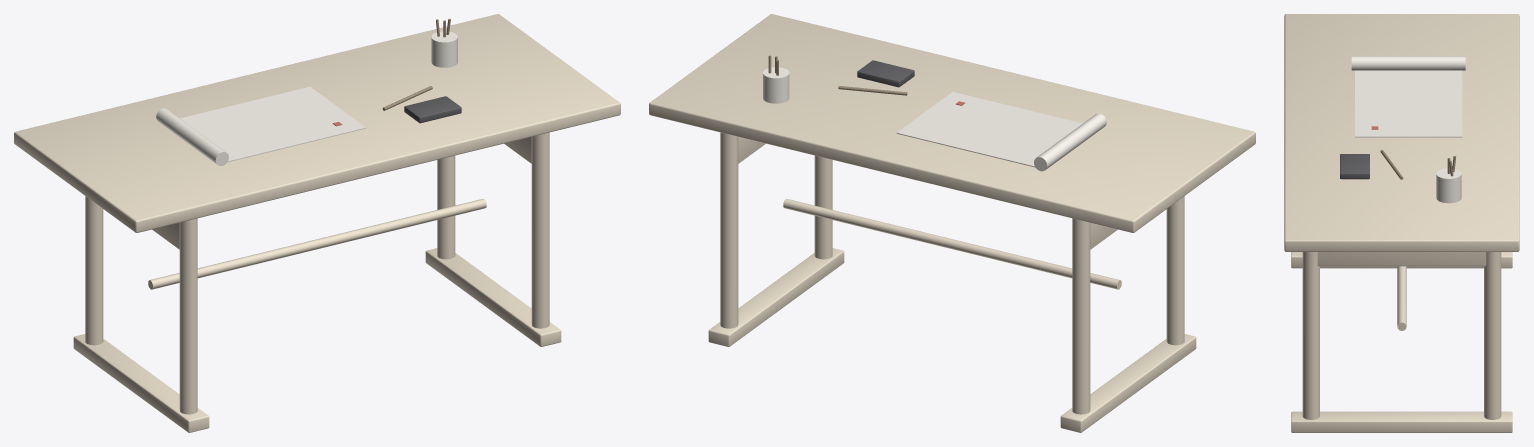
File: sg_desk.glb
3 renders of one model, left to right at view 1: azimuth 30°, elevation 25°; view 2: azimuth 150°, elevation 25°; view 3: azimuth 270°, elevation 25°, orthographic. The views are drawn at different scales.
Parts seen in each view (by area): view 1: top, sheet, trestle0_post0, trestle1_post0, trestle1_rail, trestle0_rail, stretcher, trestle0_post1, trestle1_post1, roll, inkstone, brushpot; view 2: top, sheet, trestle0_post1, trestle1_post1, trestle1_rail, trestle0_rail, stretcher, trestle0_post0, trestle1_post0, roll, inkstone, brushpot; view 3: top, sheet, trestle1_rail, trestle1_post0, trestle1_post1, trestle1_board, roll, trestle0_rail, brushpot, inkstone, stretcher.
Part boxes in pixels (box(x1,y1,x2,y2)): top: box(14, 14, 620, 232); sheet: box(180, 86, 366, 162); trestle0_post0: box(179, 218, 197, 414); trestle1_post0: box(531, 132, 549, 328); trestle1_rail: box(425, 248, 561, 346); trestle0_rail: box(73, 334, 209, 432); stretcher: box(148, 199, 486, 289); trestle0_post1: box(85, 196, 103, 345); trestle1_post1: box(437, 155, 455, 259); roll: box(156, 108, 228, 165); inkstone: box(404, 96, 461, 123); brushpot: box(431, 31, 457, 67); top: box(649, 14, 1255, 232); sheet: box(896, 92, 1082, 167); trestle0_post1: box(1072, 218, 1090, 414); trestle1_post1: box(720, 132, 738, 328); trestle1_rail: box(708, 248, 844, 346); trestle0_rail: box(1060, 334, 1196, 432); stretcher: box(783, 199, 1121, 289); trestle0_post0: box(1166, 196, 1184, 345); trestle1_post0: box(814, 155, 832, 259); roll: box(1034, 113, 1106, 171); inkstone: box(857, 60, 914, 87); brushpot: box(763, 67, 789, 103); top: box(1284, 14, 1519, 251); sheet: box(1355, 70, 1462, 137); trestle1_rail: box(1291, 411, 1512, 432); trestle1_post0: box(1302, 252, 1319, 419); trestle1_post1: box(1484, 252, 1501, 419); trestle1_board: box(1317, 252, 1486, 266); roll: box(1351, 56, 1465, 70); trestle0_rail: box(1291, 252, 1512, 268); brushpot: box(1436, 168, 1461, 203); inkstone: box(1340, 154, 1369, 179); stretcher: box(1397, 266, 1406, 330).
Bounding box in the file's own units: 1.6 × 0.8501 × 0.7.
